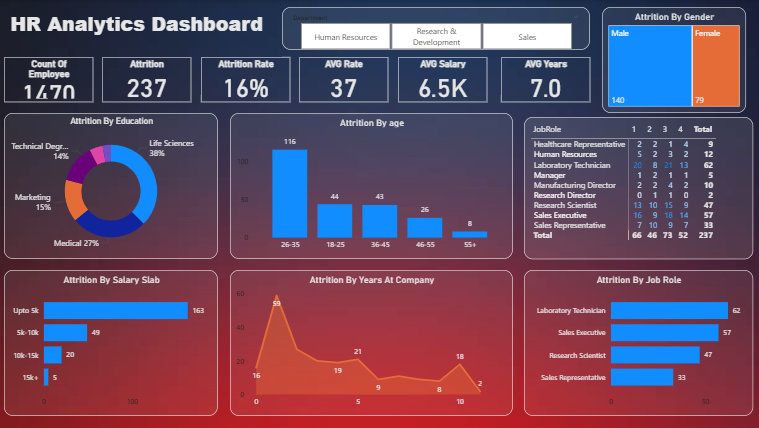

The dashboard page shown, as its layout file describes it:
{"tool":"powerbi","page":{"name":"Page 1","canvas":[1280,720],"ordinal":0},"visuals":[{"type":"card","title":"Count Of Employee","fields":{"Values":["CountNonNull(HR_Analytics.EmpID)"]},"box":[8.4,95.7,149.5,75.6],"z":0},{"type":"card","title":"Attrition ","fields":{"Values":["Sum(HR_Analytics.Attrition Count)"]},"box":[173,95.7,149.5,75.6],"z":1000},{"type":"card","title":"Attrition Rate","fields":{"Values":["HR_Analytics.AttritionRate"]},"box":[339.3,95.7,149.5,75.6],"z":2000},{"type":"card","title":"AVG Rate","fields":{"Values":["Avg(HR_Analytics.Age)"]},"box":[503.9,95.7,149.5,75.6],"z":3000},{"type":"card","title":"AVG Salary","fields":{"Values":["Avg(HR_Analytics.MonthlyIncome)"]},"box":[670.2,95.7,149.5,75.6],"z":4000},{"type":"card","title":"AVG Years","fields":{"Values":["Avg(HR_Analytics.YearsAtCompany)"]},"box":[843.3,95.7,149.5,75.6],"z":5000},{"type":"donutChart","title":"Attrition By Education","fields":{"Category":["HR_Analytics.EducationField"],"Y":["Sum(HR_Analytics.Attrition Count)"]},"box":[8.4,189.8,359.5,245.2],"z":6000},{"type":"columnChart","title":"Attrition By age","fields":{"Category":["HR_Analytics.AgeGroup"],"Y":["Sum(HR_Analytics.Attrition Count)"]},"box":[388,189.8,475.4,245.2],"z":7000},{"type":"pivotTable","fields":{"Rows":["HR_Analytics.JobRole"],"Columns":["HR_Analytics.JobSatisfaction"],"Values":["Sum(HR_Analytics.Attrition Count)"]},"box":[881.9,196.5,384.7,238.5],"z":8000},{"type":"barChart","title":"Attrition By Salary Slab","fields":{"Category":["HR_Analytics.SalarySlab"],"Y":["Sum(HR_Analytics.Attrition Count)"]},"box":[8.4,453.5,359.5,245.2],"z":9000},{"type":"barChart","title":"Attrition By Job Role","fields":{"Category":["HR_Analytics.JobRole"],"Y":["Sum(HR_Analytics.Attrition Count)"]},"box":[881.9,453.5,384.7,245.2],"z":10000},{"type":"areaChart","title":"Attrition By Years At Company","fields":{"Category":["HR_Analytics.YearsAtCompany"],"Y":["Sum(HR_Analytics.Attrition Count)"]},"box":[388,453.5,475.4,245.2],"z":11000},{"type":"treemap","title":"Attrition By Gender","fields":{"Group":["HR_Analytics.Gender"],"Values":["Sum(HR_Analytics.Attrition Count)"]},"box":[1012.9,11.8,241.9,178.1],"z":12000},{"type":"slicer","fields":{"Values":["HR_Analytics.Department"]},"box":[475.4,11.8,517.4,72.2],"z":13000},{"type":"textbox","box":[0,11.8,461.9,72.2],"z":14000}]}

Visuals, with their boxes in screenshot pixels (x1, y1, x2, y2), scaled from the page's 1280x720 canvas onto the 759x428 screenshot:
"Count Of Employee" card: (left=5, top=57, right=94, bottom=102)
"Attrition " card: (left=103, top=57, right=191, bottom=102)
"Attrition Rate" card: (left=201, top=57, right=290, bottom=102)
"AVG Rate" card: (left=299, top=57, right=387, bottom=102)
"AVG Salary" card: (left=397, top=57, right=486, bottom=102)
"AVG Years" card: (left=500, top=57, right=589, bottom=102)
"Attrition By Education" donutChart: (left=5, top=113, right=218, bottom=259)
"Attrition By age" columnChart: (left=230, top=113, right=512, bottom=259)
pivotTable - HR_Analytics.JobRole x HR_Analytics.JobSatisfaction: (left=523, top=117, right=751, bottom=259)
"Attrition By Salary Slab" barChart: (left=5, top=270, right=218, bottom=415)
"Attrition By Job Role" barChart: (left=523, top=270, right=751, bottom=415)
"Attrition By Years At Company" areaChart: (left=230, top=270, right=512, bottom=415)
"Attrition By Gender" treemap: (left=601, top=7, right=744, bottom=113)
slicer - HR_Analytics.Department: (left=282, top=7, right=589, bottom=50)
textbox: (left=0, top=7, right=274, bottom=50)
